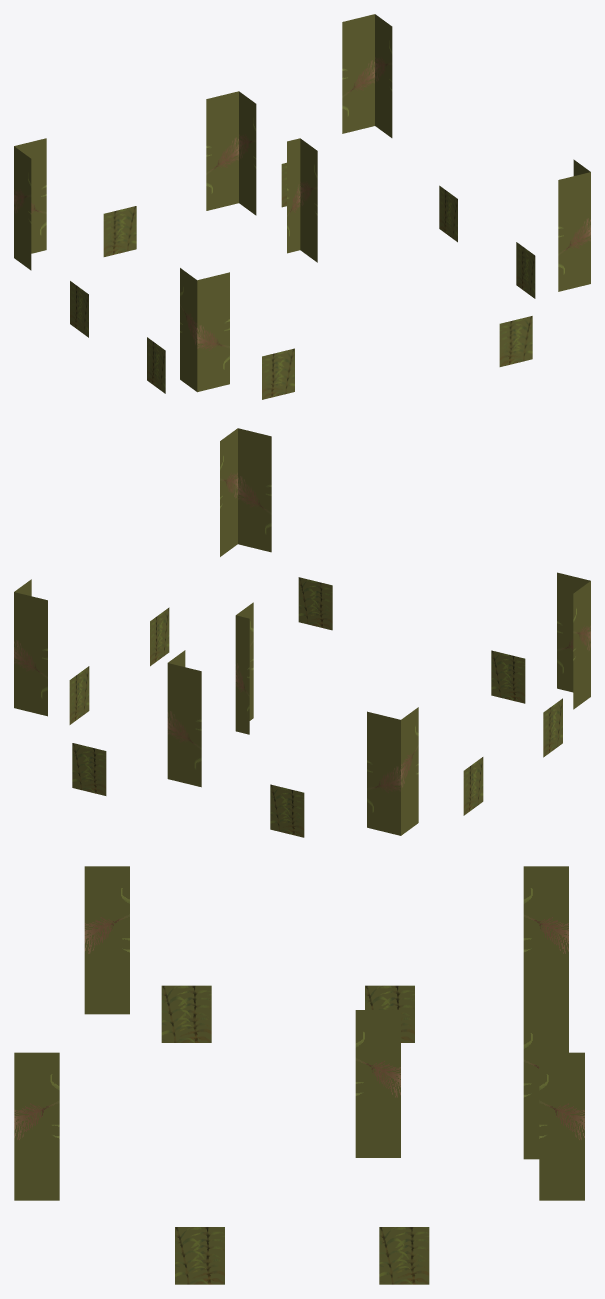
The model's file is house_4_f.dae.
3 views of the same model, one above another, from view 1: azimuth 30°, elevation 25°; view 2: azimuth 150°, elevation 25°; view 3: azimuth 270°, elevation 25° (orthographic). The views are drawn at different scales.
Parts seen in each view (by area): view 1: house_4_f; view 2: house_4_f; view 3: house_4_f.
Boxes of the visible parts, x1,y1,x2,y2 form: house_4_f: (14,14,590,399); house_4_f: (14,428,590,837); house_4_f: (14,866,584,1284).
Bounding box in the file's own units: 12.26 × 12.38 × 5.41.
1 material, 1 textured.
